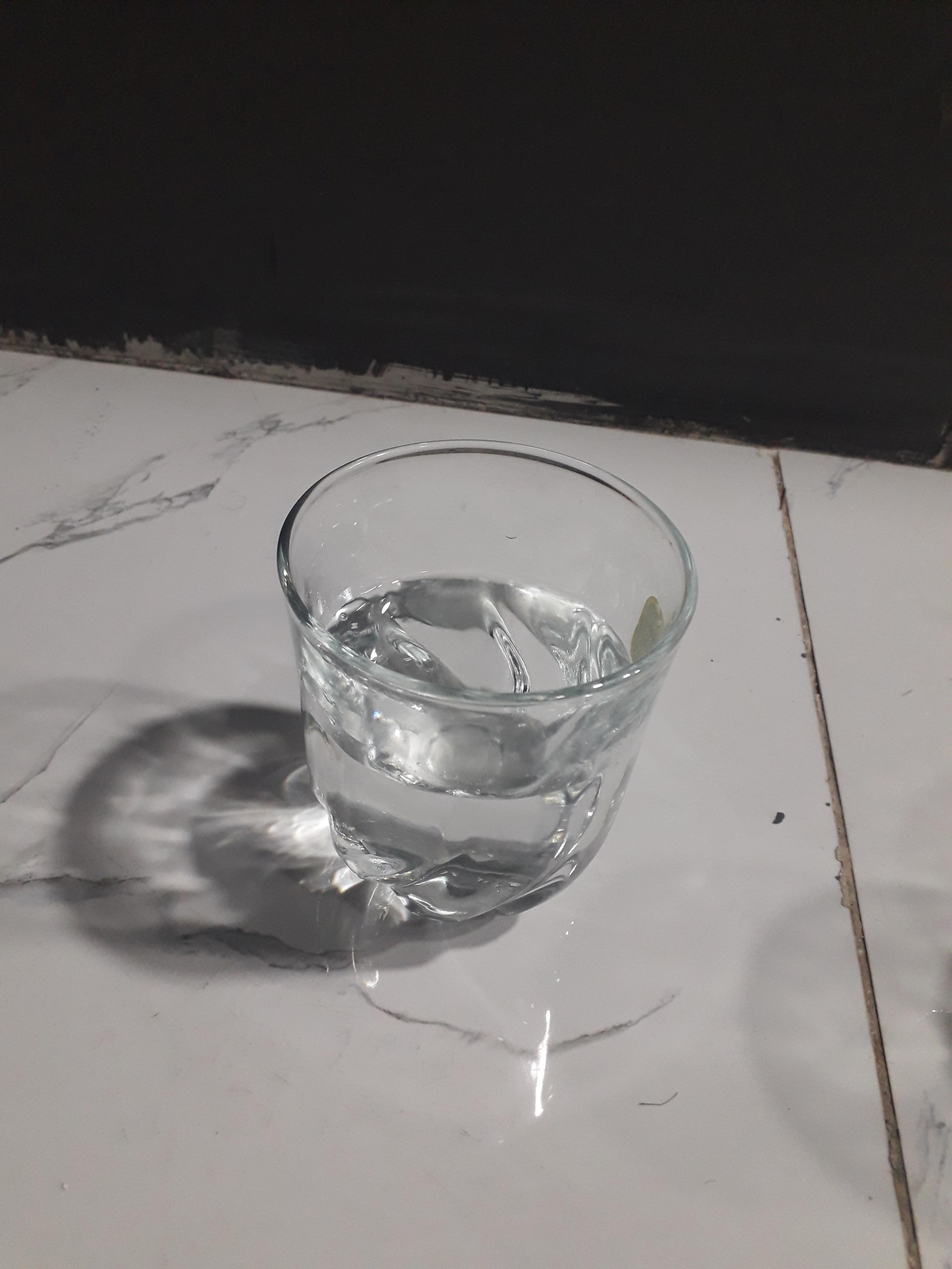glass-normal: (263, 433, 699, 937)
